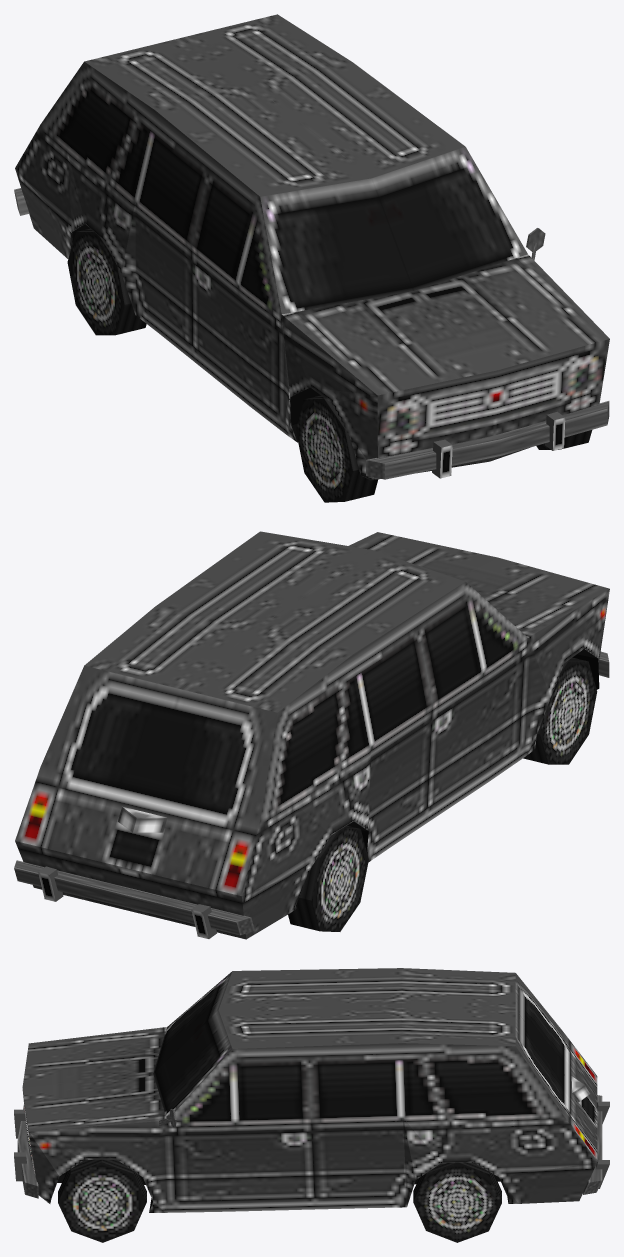
File: Auto2gris.fbx
The picture shows the model from 3 angles, top to bottom: view 1: azimuth 30°, elevation 25°; view 2: azimuth 150°, elevation 25°; view 3: azimuth 270°, elevation 25°; orthographic projection. The views are drawn at different scales.
Parts seen in each view (by area): view 1: Car; view 2: Car; view 3: Car.
Part boxes in pixels (x1,y1,x2,y2): Car: [14, 14, 609, 502]; Car: [14, 531, 609, 939]; Car: [14, 968, 609, 1242].
Size of the model in its own units: 256 by 217 by 615.
1 material, 1 textured.
